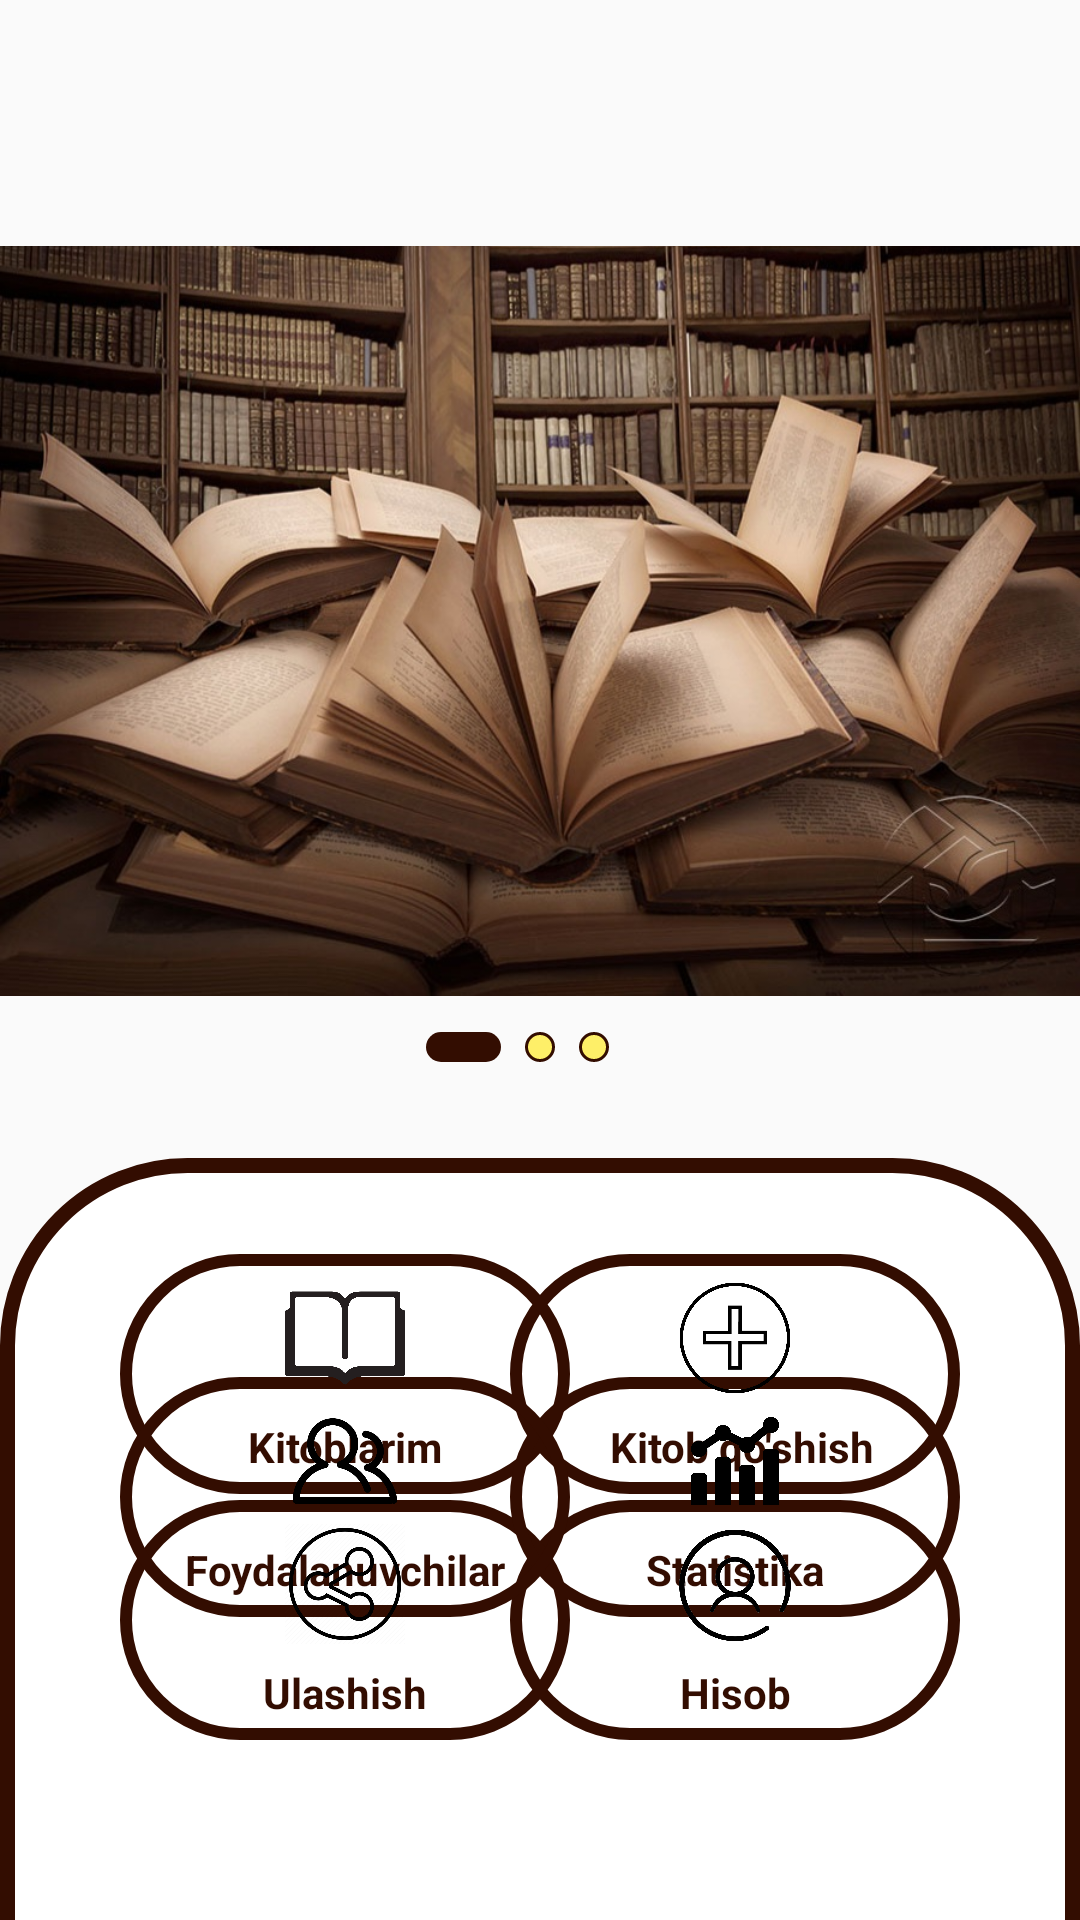

Screen size 1080w x 1920h. Icon name, then its center in pixels as (x=x, y=y):
add: (x=735, y=1338)
book: (x=345, y=1340)
